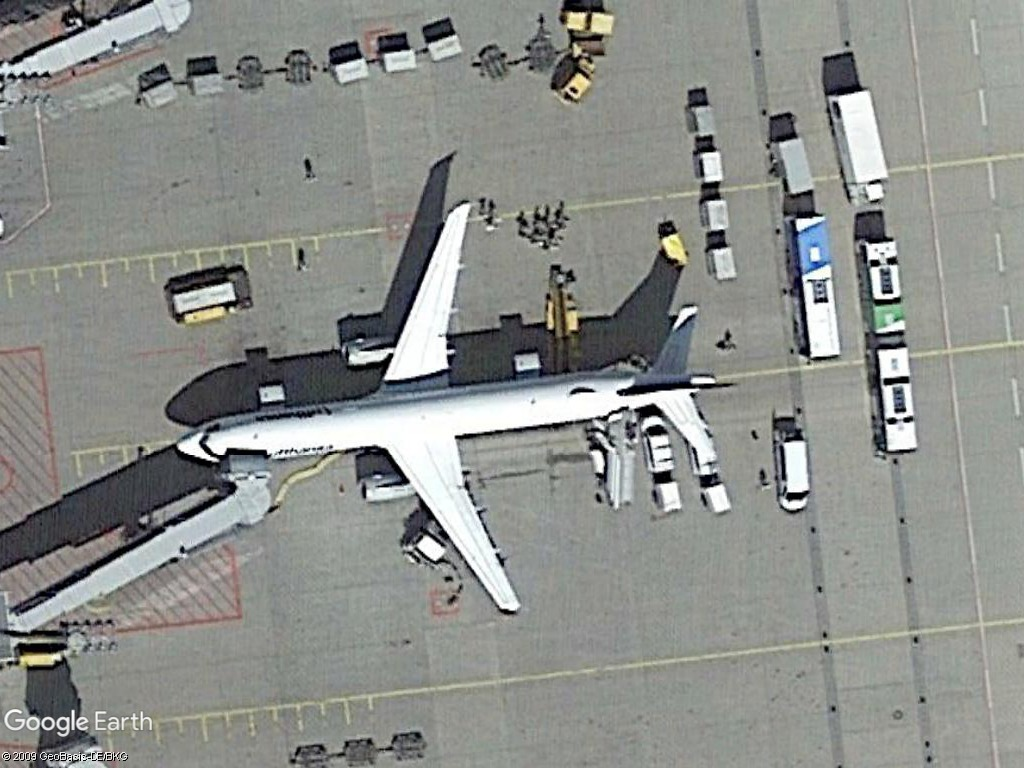airliner: (169, 196, 729, 628)
bus: (850, 232, 913, 342), (868, 338, 919, 458)
truck: (823, 83, 894, 213)
van: (772, 424, 814, 519)
